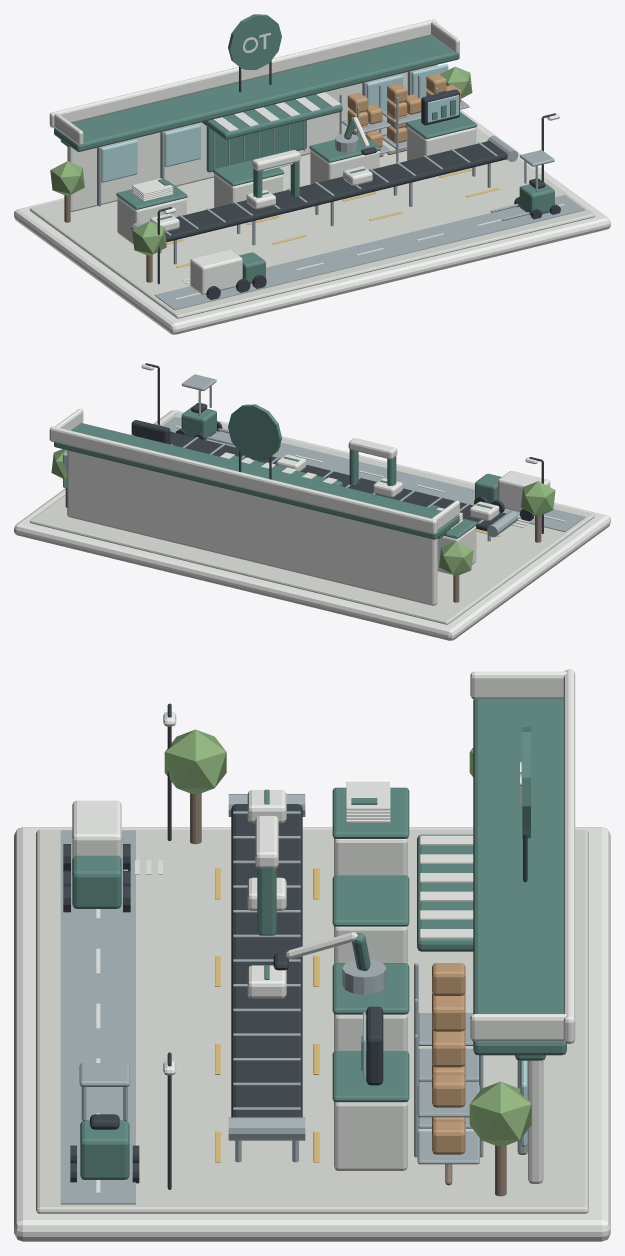
The model's file is suivi.glb.
The picture shows the model from 3 angles, top to bottom: view 1: azimuth 30°, elevation 25°; view 2: azimuth 150°, elevation 25°; view 3: azimuth 270°, elevation 25°; orthographic projection. The views are drawn at different scales.
Parts seen in each view (by area): view 1: Workshop floor, Factory roof, Island plinth, Loading lane, Conveyor belt, Warehouse back, Roof parapet, Factory central shutter, Round sign, Factory canopy, Delivery trailer, Work bench.003 (+21 smaller); view 2: Warehouse back, Workshop floor, Island plinth, Roof parapet, Factory roof, Loading lane, Conveyor belt, Round sign, Delivery trailer, Icosphere, Icosphere.002, Forklift body (+8 smaller); view 3: Workshop floor, Island plinth, Factory roof, Loading lane, Conveyor belt, Work bench.003, Roof parapet, Accent bench trim.001, Factory canopy, Accent bench trim.003, Icosphere.001, Icosphere.002 (+29 smaller).
Boxes of the visible parts, x1=… form: Workshop floor: x1=29, y1=127, x2=595, y2=318; Factory roof: x1=54, y1=35, x2=459, y2=151; Island plinth: x1=14, y1=109, x2=610, y2=334; Loading lane: x1=154, y1=195, x2=585, y2=310; Conveyor belt: x1=165, y1=141, x2=506, y2=242; Warehouse back: x1=67, y1=64, x2=437, y2=211; Roof parapet: x1=49, y1=19, x2=437, y2=127; Factory central shutter: x1=206, y1=120, x2=306, y2=172; Round sign: x1=228, y1=14, x2=281, y2=70; Factory canopy: x1=201, y1=94, x2=342, y2=139; Delivery trailer: x1=190, y1=249, x2=242, y2=294; Work bench.003: x1=407, y1=126, x2=476, y2=160; Warehouse back: x1=67, y1=450, x2=437, y2=605; Workshop floor: x1=29, y1=412, x2=595, y2=624; Island plinth: x1=14, y1=410, x2=610, y2=640; Roof parapet: x1=49, y1=426, x2=437, y2=534; Factory roof: x1=54, y1=423, x2=459, y2=539; Loading lane: x1=162, y1=416, x2=585, y2=531; Conveyor belt: x1=170, y1=431, x2=506, y2=531; Round sign: x1=228, y1=404, x2=281, y2=460; Delivery trailer: x1=498, y1=471, x2=550, y2=515; Icosphere: x1=439, y1=541, x2=473, y2=575; Icosphere.002: x1=521, y1=481, x2=555, y2=515; Forklift body: x1=181, y1=407, x2=216, y2=439; Workshop floor: x1=36, y1=829, x2=588, y2=1213; Island plinth: x1=14, y1=827, x2=610, y2=1241; Factory roof: x1=473, y1=698, x2=566, y2=1055; Loading lane: x1=60, y1=830, x2=135, y2=1204; Conveyor belt: x1=231, y1=804, x2=302, y2=1117; Work bench.003: x1=334, y1=1101, x2=407, y2=1170; Roof parapet: x1=563, y1=669, x2=575, y2=1043; Accent bench trim.001: x1=332, y1=875, x2=409, y2=926; Factory canopy: x1=417, y1=834, x2=473, y2=951; Accent bench trim.003: x1=332, y1=1051, x2=409, y2=1102; Icosphere.001: x1=469, y1=1081, x2=531, y2=1146; Icosphere.002: x1=164, y1=729, x2=226, y2=793.
Size of the model in its own units: 7.3 by 2.66 by 4.6.
